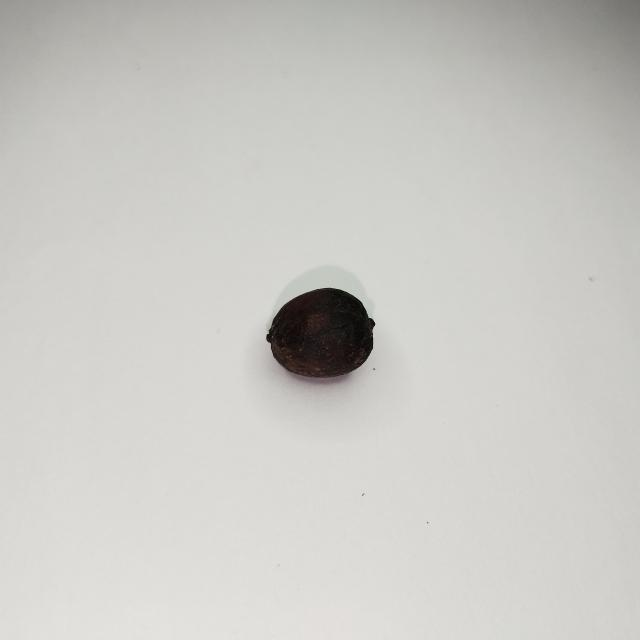Danado: (266, 288, 374, 376)
